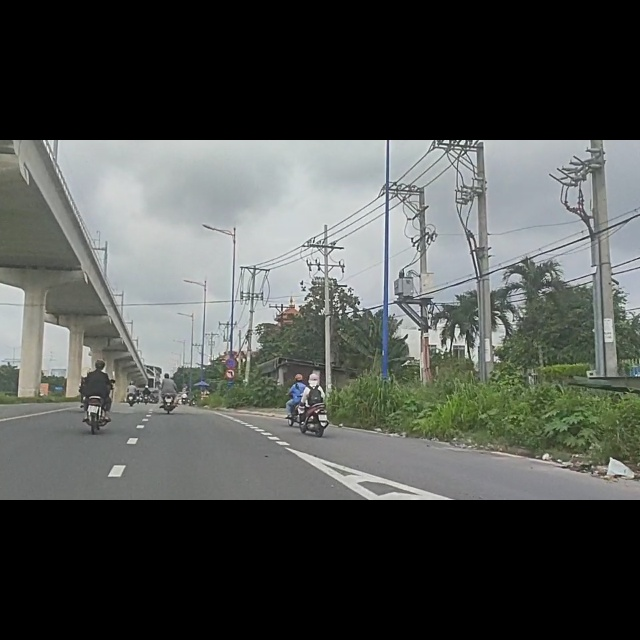bien_cam: (226, 405, 236, 425), (226, 389, 237, 407)
